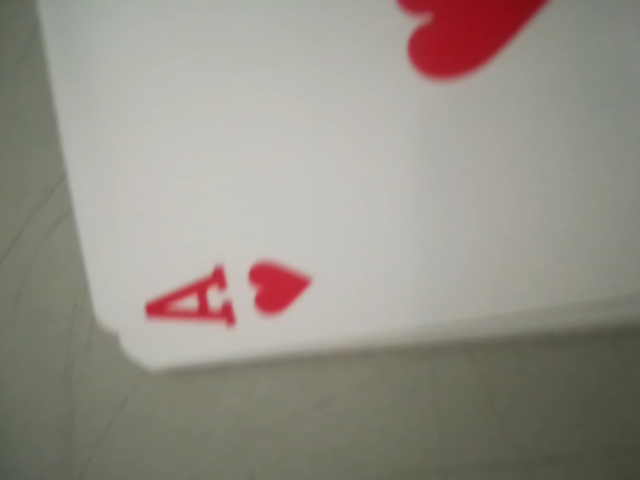hx a: (137, 227, 340, 359)
